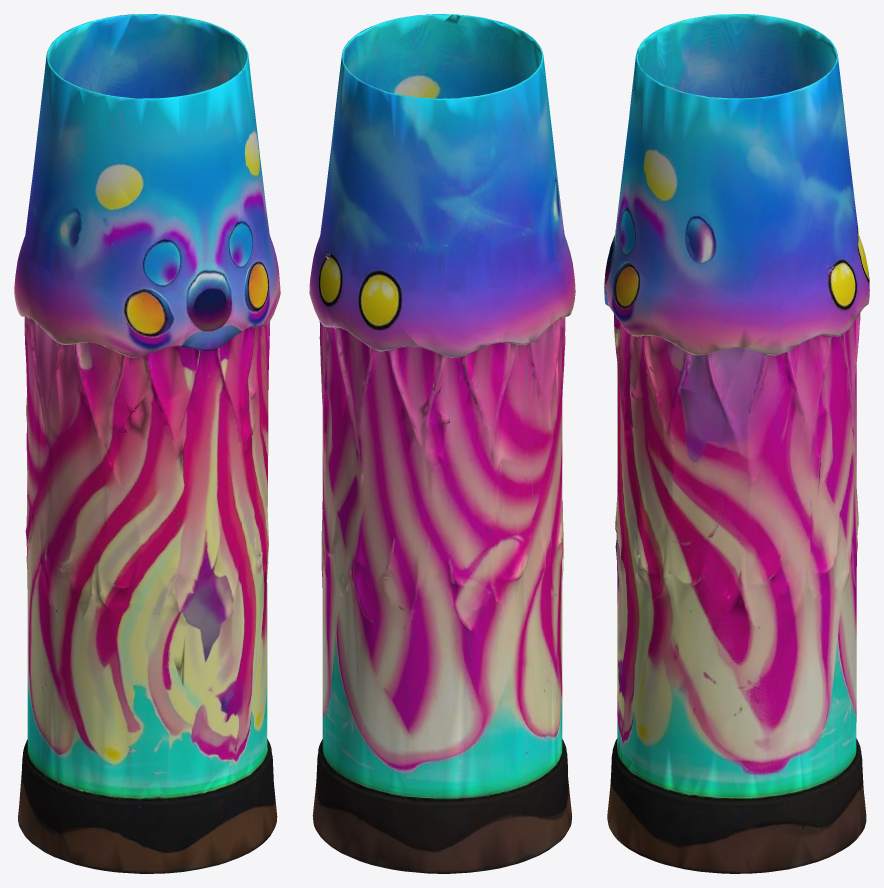
The model's file is lava-lamp-jellyfish-50006.glb.
The picture shows the model from 3 angles, left to right: view 1: azimuth 30°, elevation 25°; view 2: azimuth 150°, elevation 25°; view 3: azimuth 270°, elevation 25°; orthographic projection.
Bounding box in the file's own units: 0.6041 × 1.91 × 0.6023.
Materials: 1 (1 with a texture image).
